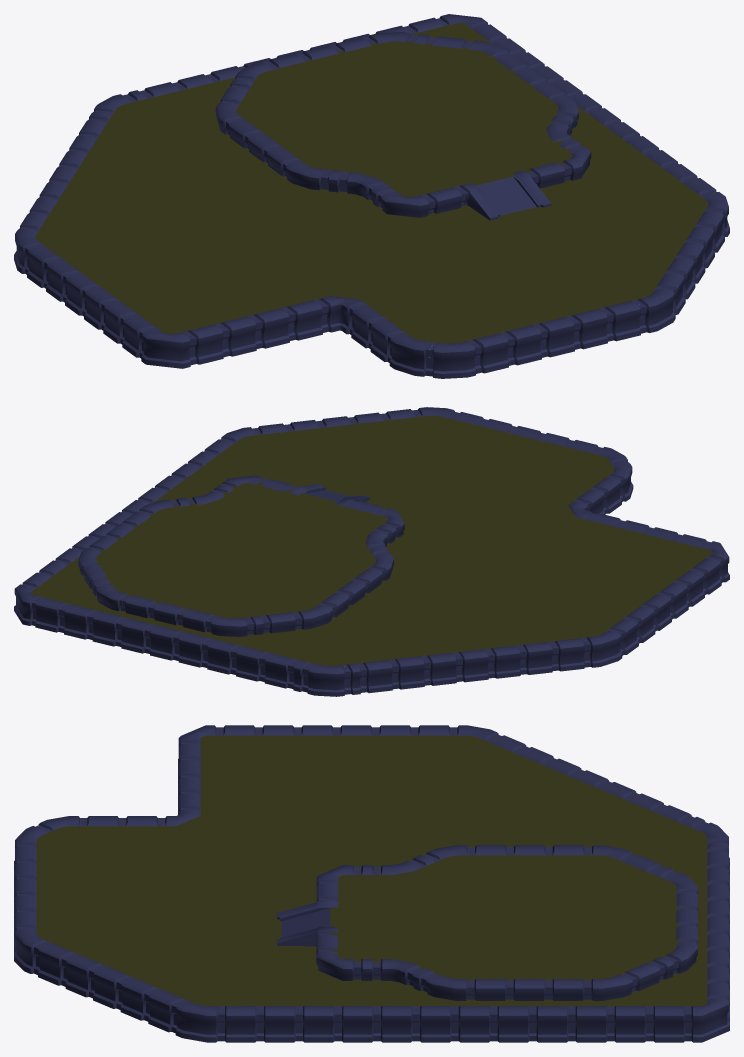
Rendered from TB1_Floor.FBX.
The picture shows the model from 3 angles, top to bottom: view 1: azimuth 30°, elevation 25°; view 2: azimuth 150°, elevation 25°; view 3: azimuth 270°, elevation 25°; orthographic projection. The views are drawn at different scales.
Parts seen in each view (by area): view 1: grid1, grid, polymsh16, polymsh040, polymsh027, cube19, polymsh_extracted, polymsh041, cube139, cube140, cube132, cube134 (+28 smaller); view 2: grid1, grid, polymsh044, polymsh045, cube175, cube172, cube173, cube177, cube174, cube171, cube176, polymsh_extracted (+29 smaller); view 3: grid1, grid, polymsh042, polymsh043, cube148, cube149, cube150, cube151, cube152, cube153, cube154, cube155 (+23 smaller).
Boxes of the visible parts, <box> form: grid1: <box>35,23,708,343</box>; grid: <box>236,41,572,197</box>; polymsh16: <box>141,329,193,368</box>; polymsh040: <box>429,340,478,378</box>; polymsh027: <box>389,333,433,376</box>; cube19: <box>476,176,536,215</box>; polymsh_extracted: <box>157,283,221,311</box>; polymsh041: <box>634,288,675,332</box>; cube139: <box>601,300,643,341</box>; cube140: <box>568,308,610,349</box>; cube132: <box>184,324,226,364</box>; cube134: <box>283,299,325,340</box>; grid1: <box>17,415,712,665</box>; grid: <box>96,482,388,618</box>; polymsh044: <box>305,663,347,696</box>; polymsh045: <box>584,630,622,667</box>; cube175: <box>488,645,523,678</box>; cube172: <box>392,656,427,689</box>; cube173: <box>424,652,459,685</box>; cube177: <box>552,638,587,671</box>; cube174: <box>456,649,491,682</box>; cube171: <box>360,659,395,693</box>; cube176: <box>520,641,555,674</box>; polymsh_extracted: <box>609,549,665,572</box>; grid1: <box>36,735,712,1011</box>; grid: <box>330,854,680,980</box>; polymsh042: <box>174,1000,221,1042</box>; polymsh043: <box>688,998,729,1042</box>; cube148: <box>221,1006,260,1042</box>; cube149: <box>260,1006,299,1042</box>; cube150: <box>299,1006,338,1042</box>; cube151: <box>338,1006,377,1042</box>; cube152: <box>377,1006,415,1042</box>; cube153: <box>416,1006,454,1042</box>; cube154: <box>455,1006,493,1042</box>; cube155: <box>494,1006,532,1042</box>.
Bounding box in the file's own units: 8454 × 569 × 8823.
